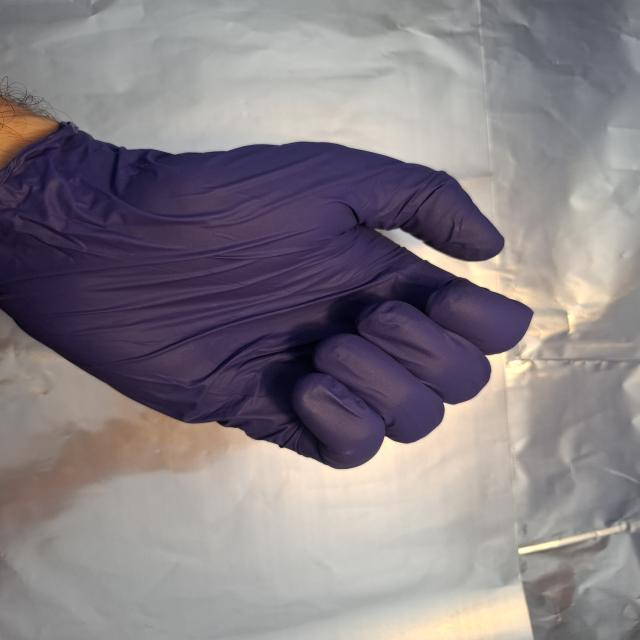glove_on: (3, 113, 542, 476)
